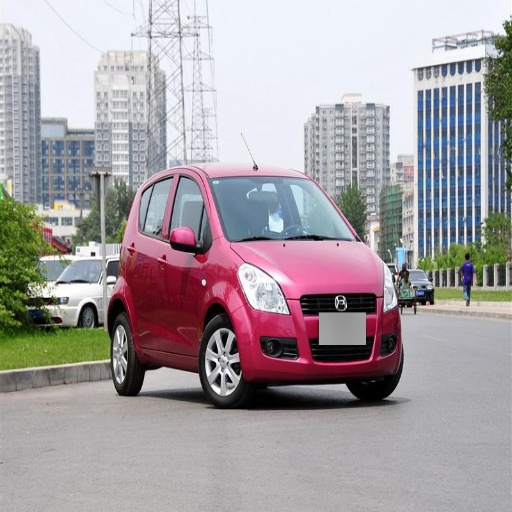front_bumper: (236, 295, 403, 383)
front_right_door: (159, 170, 209, 354)
front_right_light: (239, 266, 290, 315)
